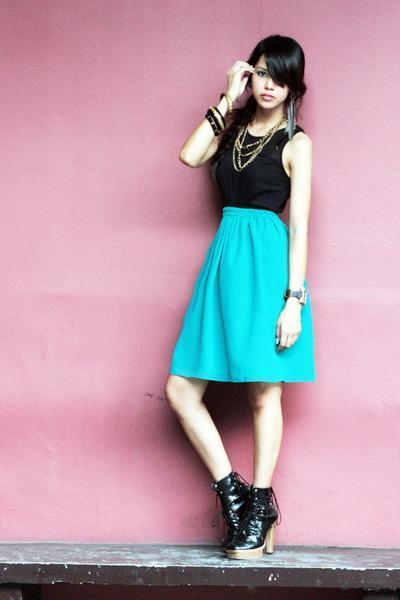shirt: (207, 132, 290, 212)
shoe: (209, 473, 279, 557)
skirt: (170, 207, 314, 382)
